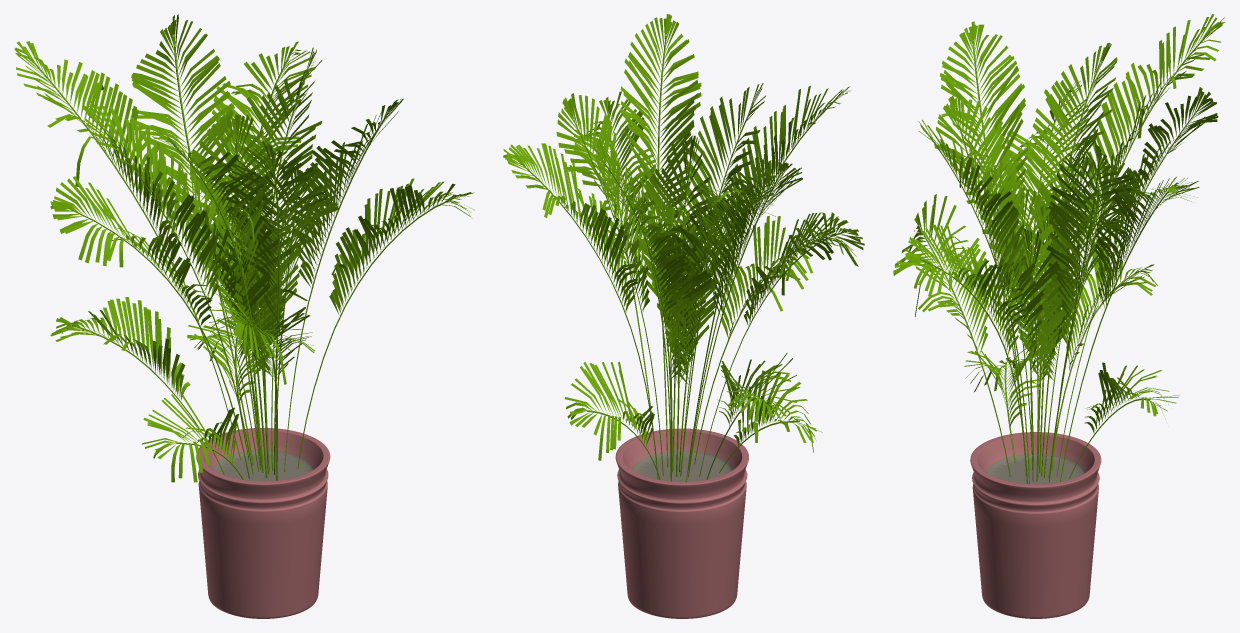
The model's file is plant.glb.
3 renders of one model, left to right at view 1: azimuth 30°, elevation 25°; view 2: azimuth 150°, elevation 25°; view 3: azimuth 270°, elevation 25°, orthographic. The views are drawn at different scales.
Parts seen in each view (by area): view 1: plant_Mesh.001, Circle; view 2: plant_Mesh.001, Circle; view 3: plant_Mesh.001, Circle.
Boxes of the visible parts, x1=… form: plant_Mesh.001: x1=14, y1=14, x2=474, y2=482; Circle: x1=196, y1=428, x2=330, y2=618; plant_Mesh.001: x1=503, y1=14, x2=864, y2=481; Circle: x1=615, y1=428, x2=748, y2=618; plant_Mesh.001: x1=893, y1=14, x2=1225, y2=484; Circle: x1=970, y1=432, x2=1101, y2=618.
Size of the model in its own units: 0.818 by 1.17 by 0.6902.
